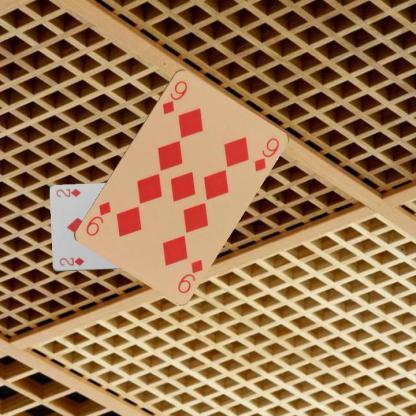2d: (57, 255, 86, 267)
9d: (174, 256, 204, 295), (159, 78, 189, 116)
